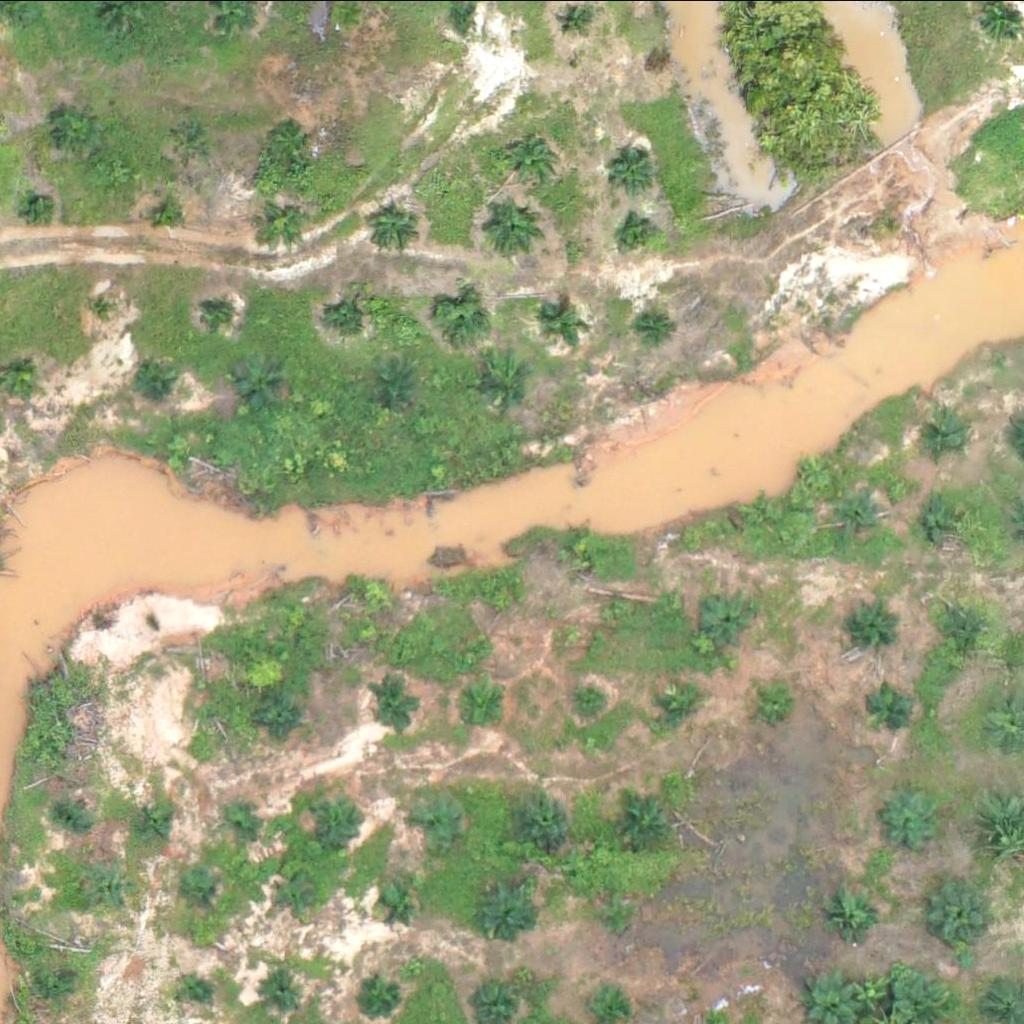Kelapa_Sawit: (475, 883, 538, 946), (828, 885, 891, 948), (928, 881, 991, 944), (411, 786, 474, 849), (500, 128, 563, 191), (880, 788, 943, 850), (482, 195, 545, 257), (518, 792, 569, 842), (621, 793, 672, 843), (265, 111, 316, 161), (653, 682, 704, 732), (259, 198, 310, 248), (353, 968, 404, 1018), (309, 791, 359, 841), (841, 598, 891, 648), (866, 680, 916, 730), (836, 491, 886, 541), (705, 592, 755, 642), (921, 495, 971, 545), (920, 409, 970, 459), (945, 601, 995, 651), (330, 290, 380, 340), (439, 292, 489, 342), (372, 203, 422, 253), (608, 143, 658, 193), (373, 678, 423, 728), (463, 680, 513, 730), (54, 103, 104, 153), (238, 356, 288, 406), (258, 687, 308, 737), (489, 354, 539, 404), (743, 495, 781, 533), (754, 683, 792, 721), (544, 305, 582, 343), (635, 304, 673, 342), (618, 217, 656, 255), (595, 591, 633, 629), (482, 581, 520, 619), (357, 575, 395, 613), (139, 364, 177, 402), (175, 965, 213, 1003), (217, 797, 255, 835), (130, 797, 168, 835), (55, 798, 93, 836), (557, 528, 595, 565), (176, 120, 213, 158), (377, 365, 415, 402), (259, 969, 296, 1007), (55, 955, 93, 992), (92, 870, 130, 907), (184, 865, 222, 902), (280, 875, 318, 912), (597, 894, 635, 931), (576, 682, 613, 719), (384, 884, 421, 921), (452, 5, 477, 30), (25, 197, 50, 222), (155, 204, 180, 229), (94, 292, 119, 317), (206, 298, 231, 323)
